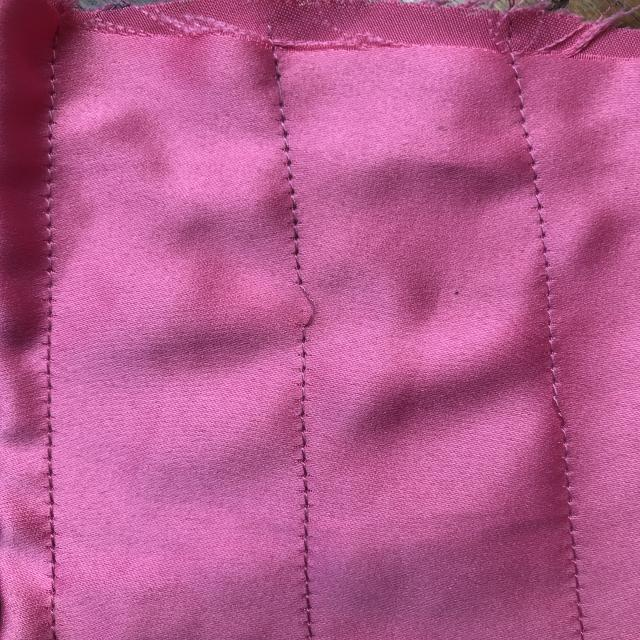skip: (274, 276, 338, 341)
